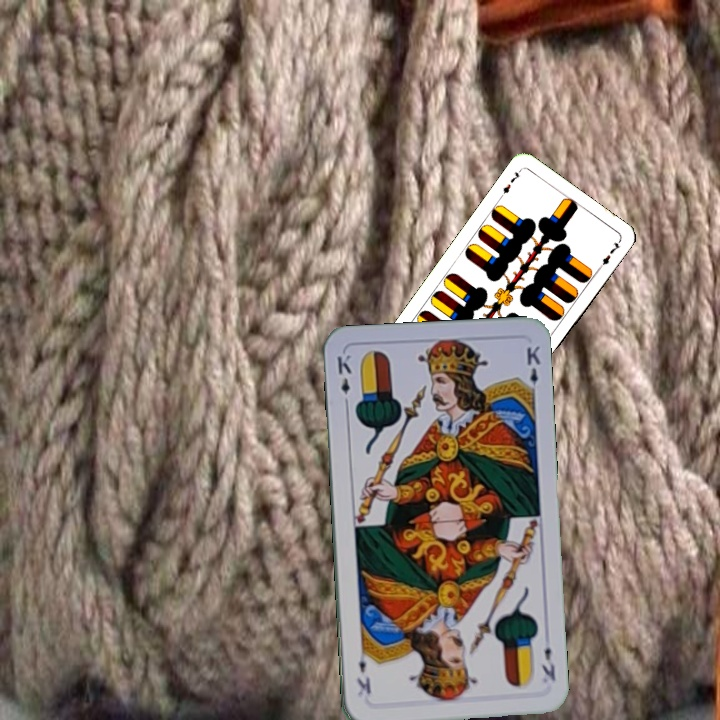E7: (496, 165, 524, 201)
EK: (333, 350, 354, 410), (537, 642, 558, 684)
